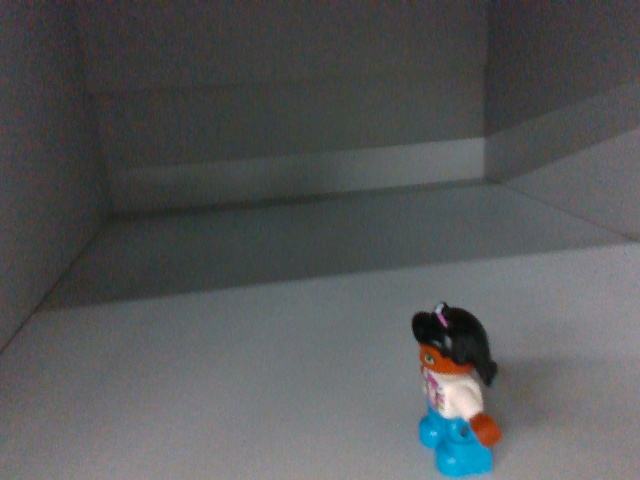people: (405, 300, 505, 475)
